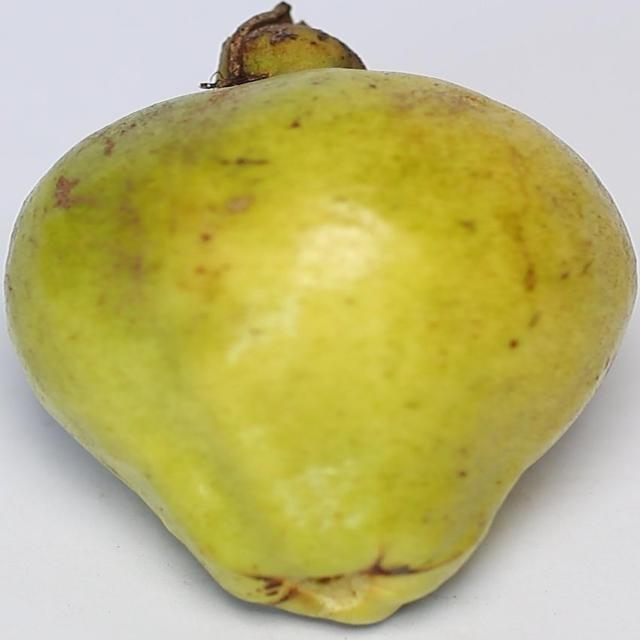Good_Guava: (3, 66, 638, 629)
